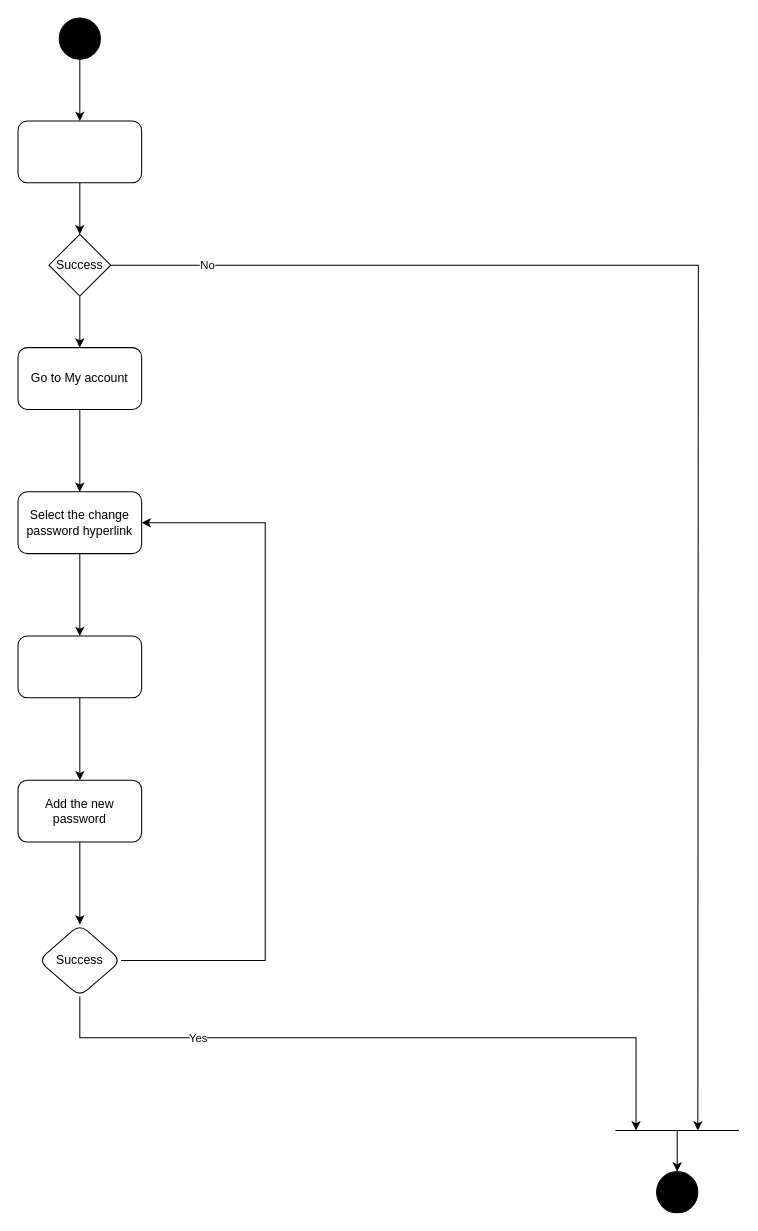
Image size: 758x1231. Some labels were removed from this diagram. Here are the shapes that lost their labels. From the top down, the box of each, then its label:
(17, 120, 142, 183): Signin
(17, 635, 142, 698): Add the old password
